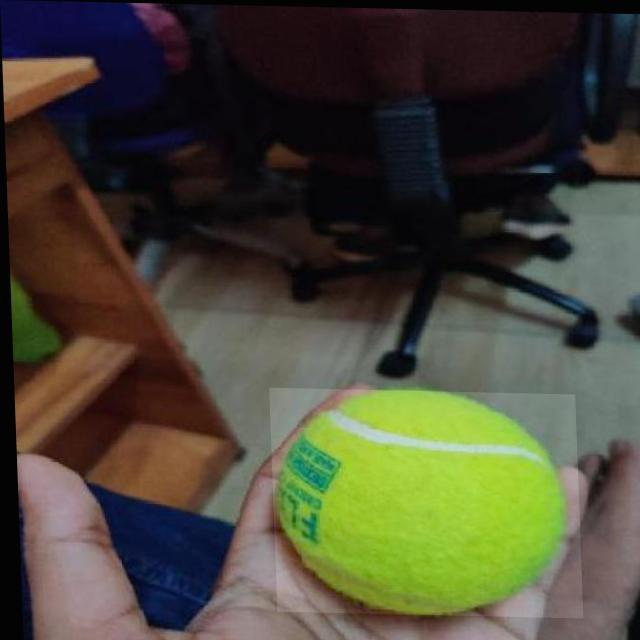-: (266, 387, 579, 616)
